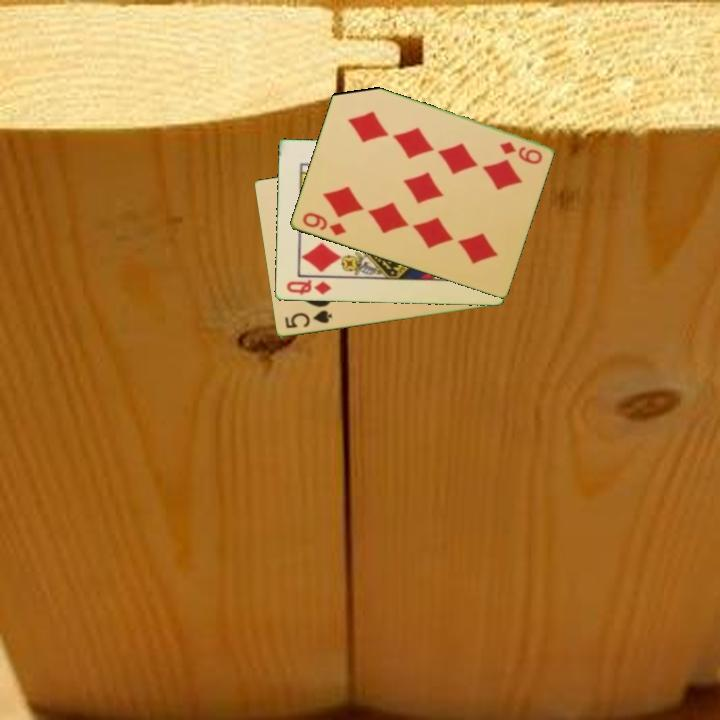5s: (281, 307, 334, 332)
9d: (299, 209, 349, 239), (496, 138, 545, 167)
Qd: (283, 277, 334, 298)
